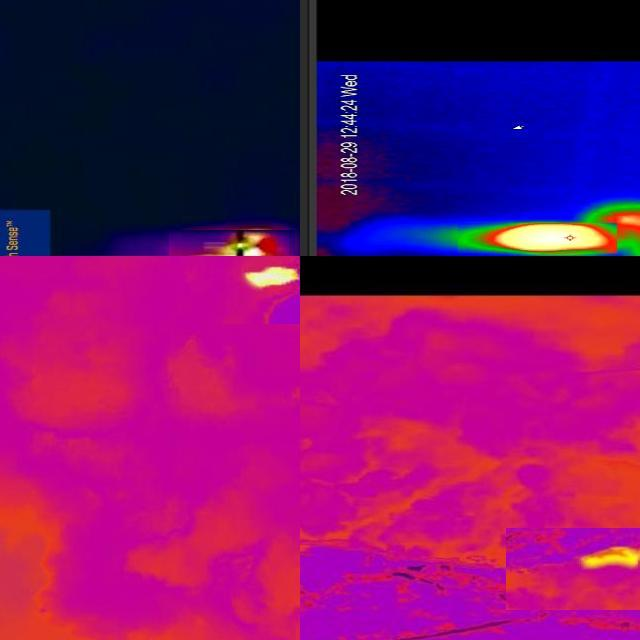fire: (459, 223, 618, 253), (170, 230, 296, 257), (242, 257, 301, 301), (580, 539, 639, 581)
